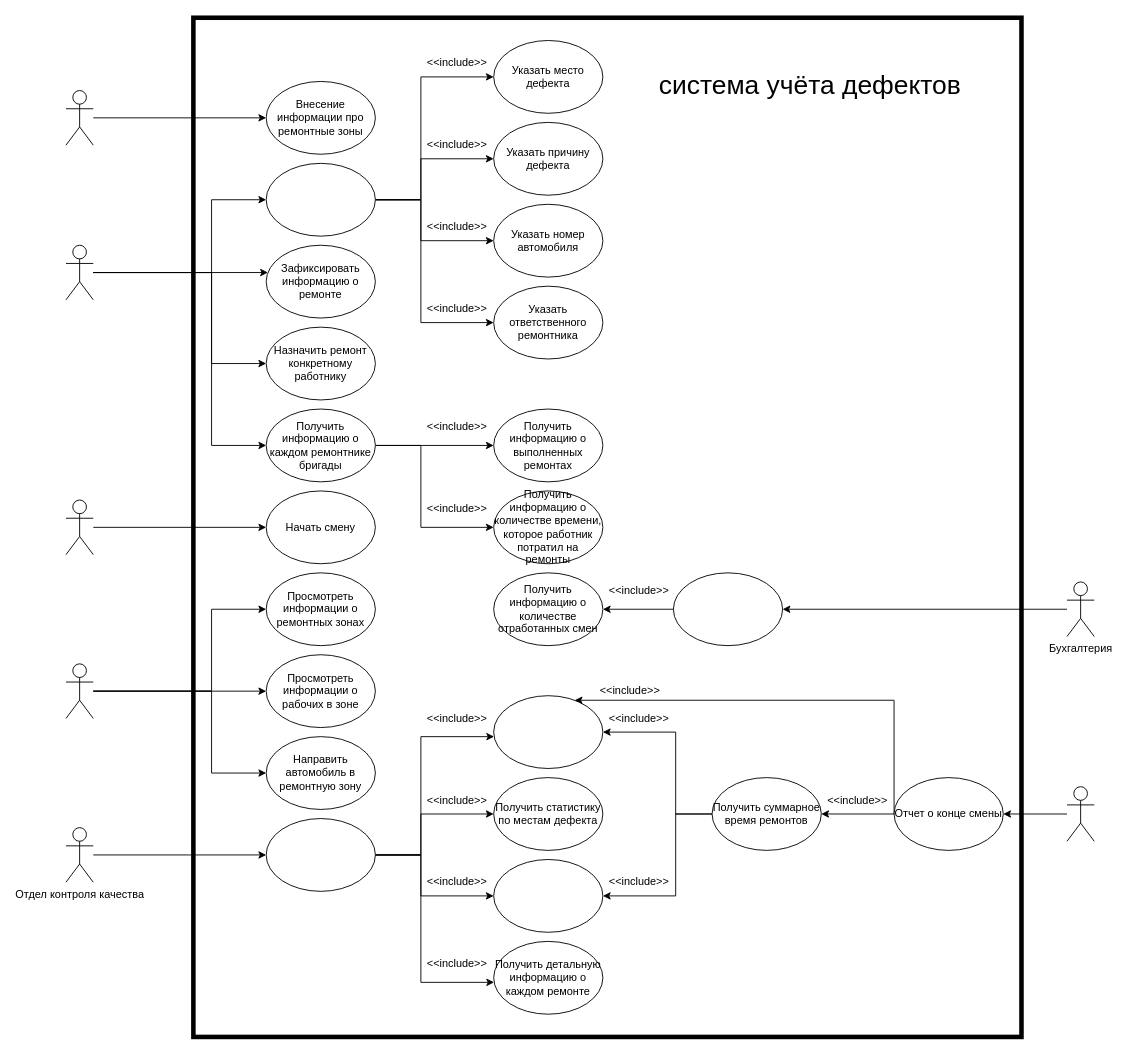
The diagram is 1137 pixels wide and 1055 high, and some of its shapes have lost their labels. The shapes that lost their labels are listed below. From the top down, each one's centre as x and y in pixels, then its label:
At (79,117): "Менеджер по ремонту".
At (320,199): "Зарегистрировать дефект".
At (79,272): "Бригадир".
At (79,527): "Рабочий".
At (727,609): "Получить ежемесячный отчет".
At (79,690): "Диспетчер".
At (548,731): "Получить общее количество ремонтов".
At (1080,813): "Начальник цеха".
At (320,854): "Получить сводный отчет".
At (548,895): "Получить среднее время ремонта".
